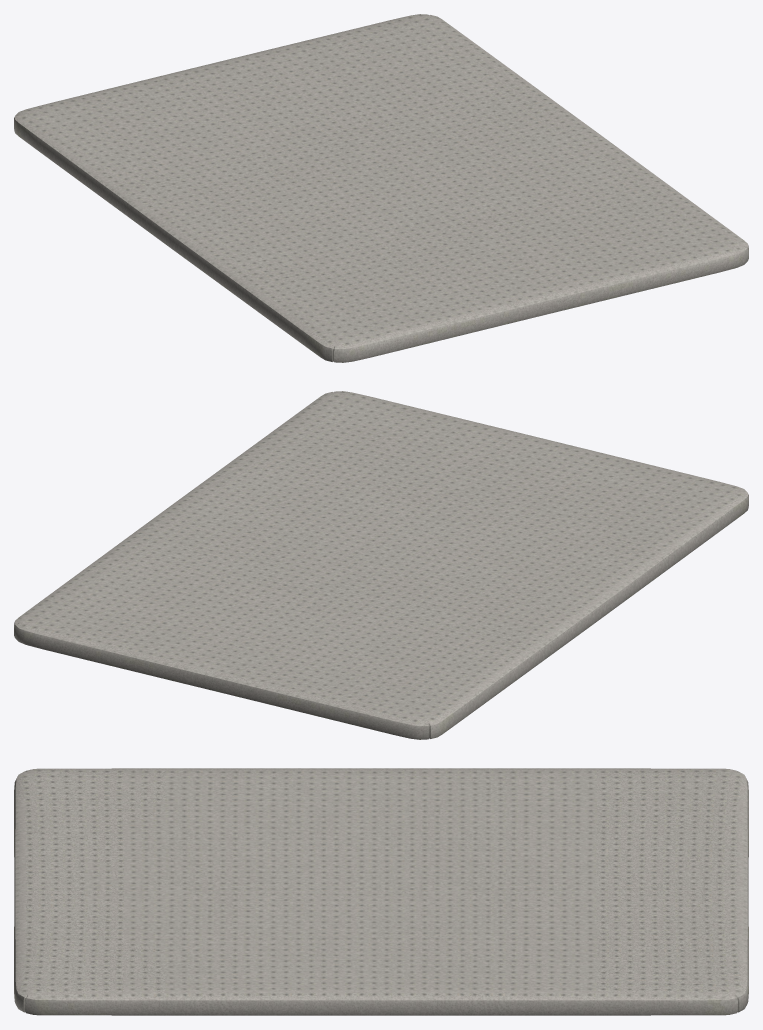
The model's file is reliefLayer2.glb.
3 renders of one model, top to bottom at view 1: azimuth 30°, elevation 25°; view 2: azimuth 150°, elevation 25°; view 3: azimuth 270°, elevation 25°, orthographic. The views are drawn at different scales.
Parts seen in each view (by area): view 1: ReliefLayer; view 2: ReliefLayer; view 3: ReliefLayer.
Boxes of the visible parts, bbox=[...] form: ReliefLayer: bbox=[14, 14, 748, 362]; ReliefLayer: bbox=[14, 391, 748, 739]; ReliefLayer: bbox=[14, 768, 748, 1015].
Bounding box in the file's own units: 1.5 × 0.0522 × 2.
Materials: 1 (1 with a texture image).
